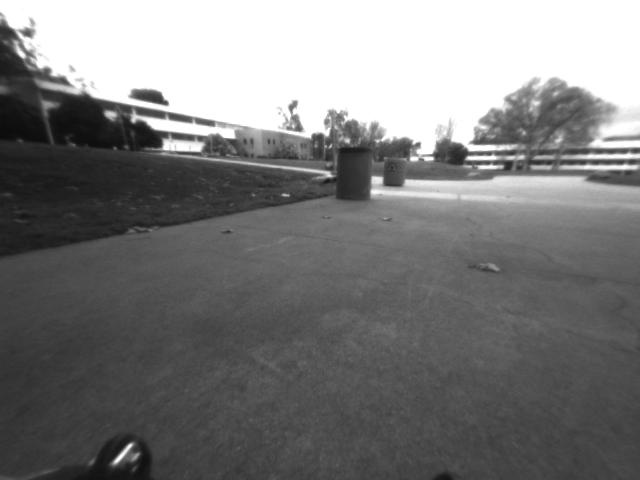trashcan: (342, 146, 373, 200), (384, 154, 406, 190)
